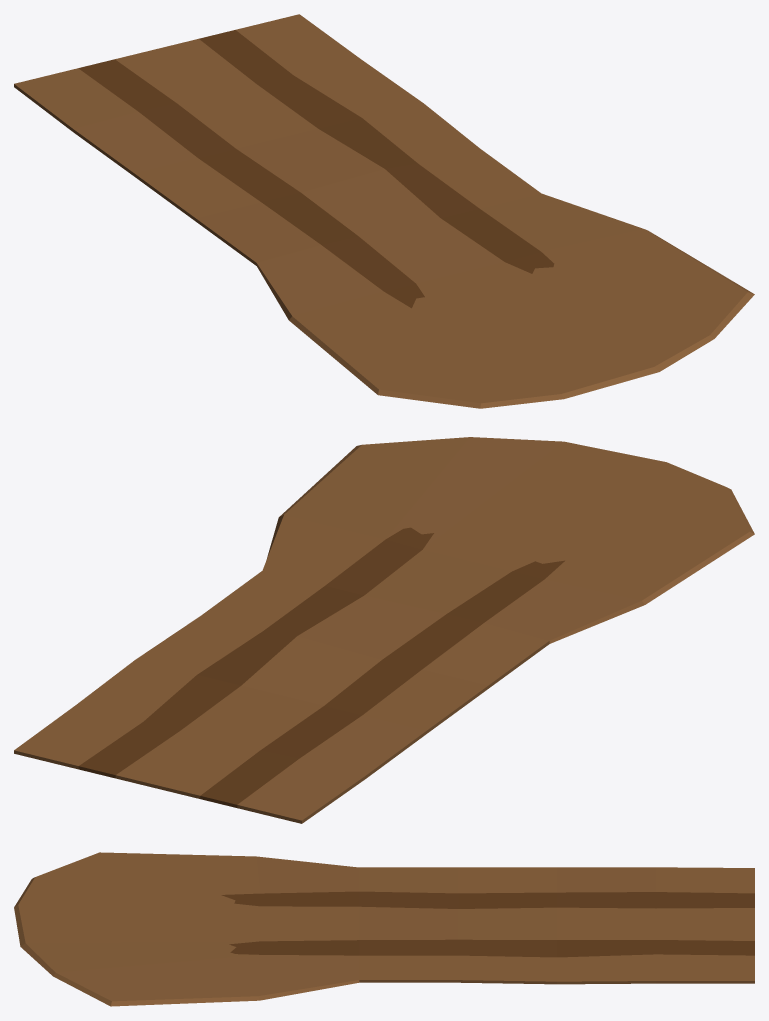
The model's file is Road_05.fbx.
The picture shows the model from 3 angles, top to bottom: view 1: azimuth 30°, elevation 25°; view 2: azimuth 150°, elevation 25°; view 3: azimuth 270°, elevation 25°; orthographic projection. The views are drawn at different scales.
Parts seen in each view (by area): view 1: Road_05; view 2: Road_05; view 3: Road_05.
Boxes of the visible parts, x1,y1,x2,y2 form: Road_05: [14, 14, 754, 408]; Road_05: [14, 437, 754, 823]; Road_05: [14, 852, 754, 1006].
Size of the model in its own units: 608 by 9.66 by 1248.
